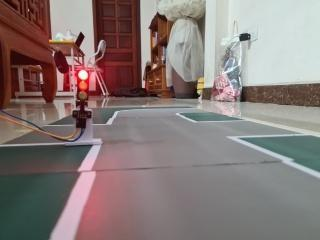red: (64, 61, 98, 124)
